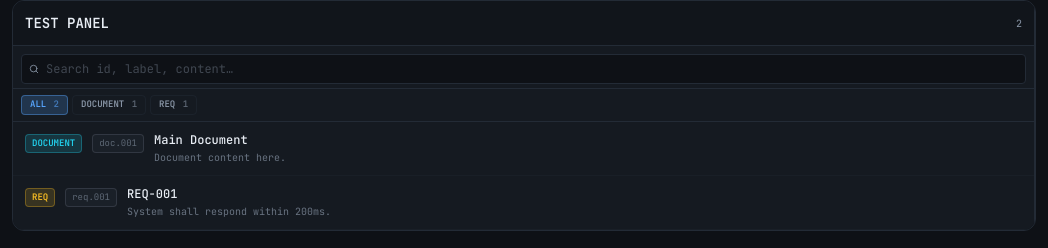
NodeTablePanel — search › filters nodes by title
The image size is (1048, 248).
In the field with placeholder "Search id, label, content…": (524, 69) [21, 54, 1026, 84], type "REQ-001"
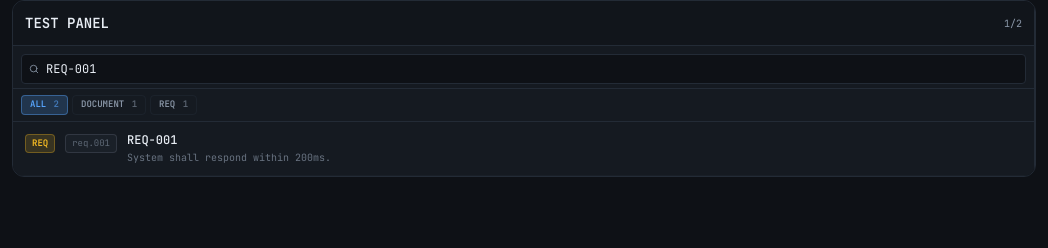
Expected: the text "REQ-001" is shown, [127, 132, 177, 148]
Result: the button "Main Document" is gone
